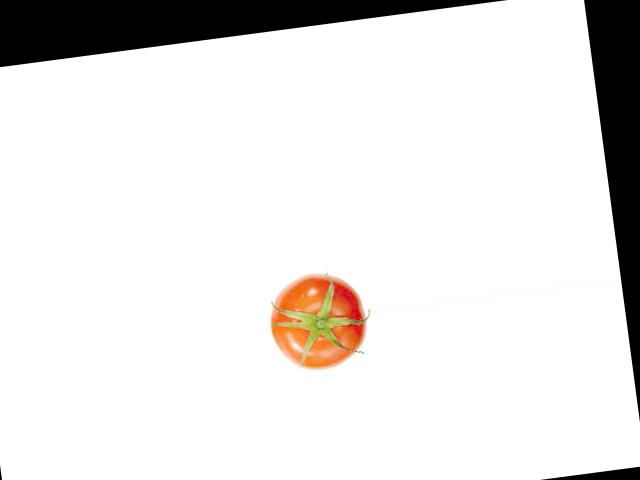tomato: (263, 268, 371, 375)
